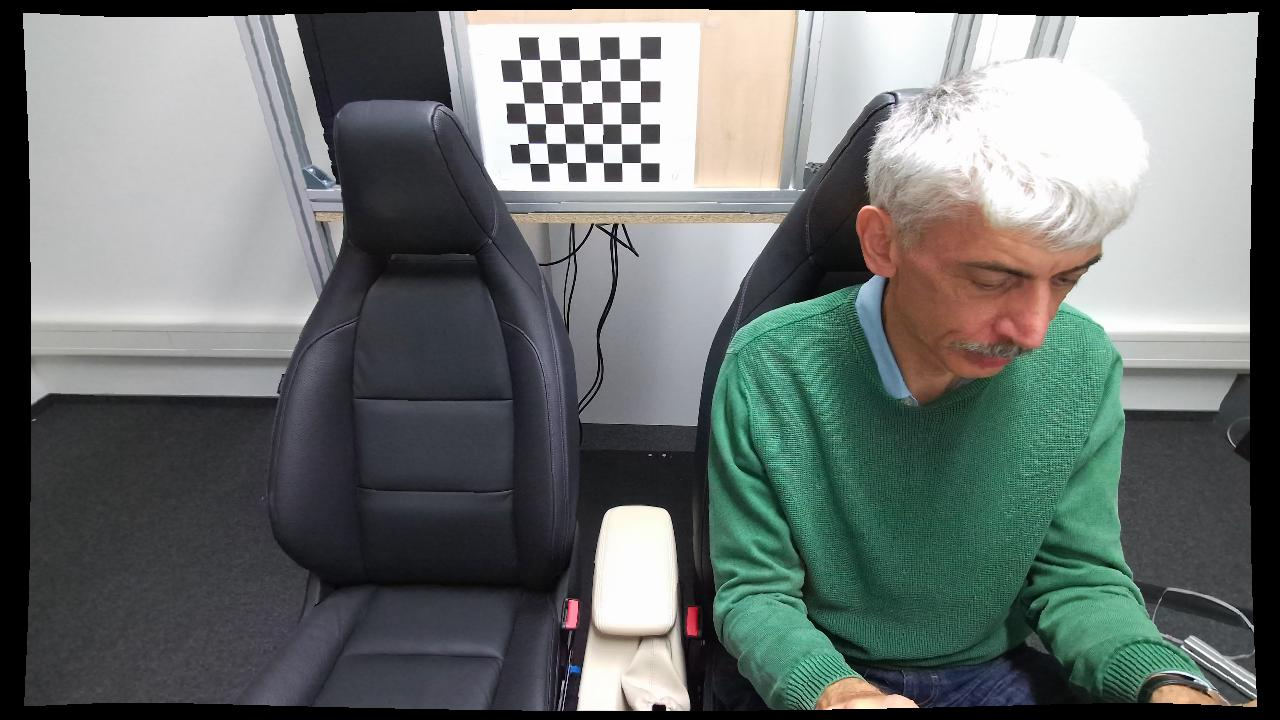Distracted: (705, 55, 1183, 717)
